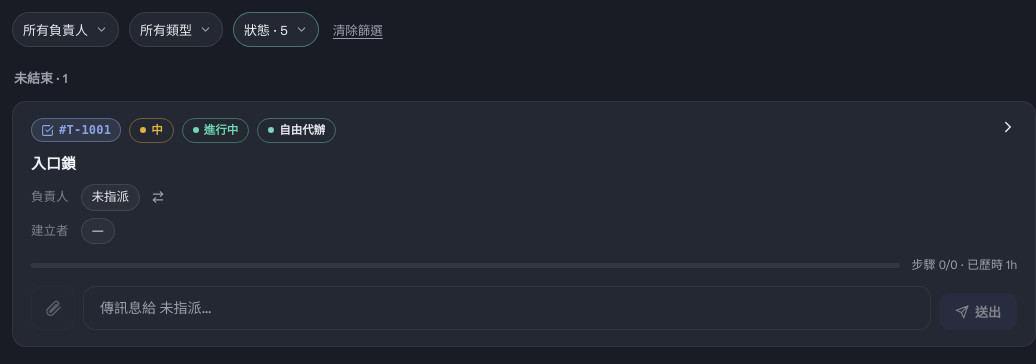
Test: TaskCard 轉派 entry + dialog › puts the 轉派 icon in the 負責人 cell — never the 狀態 dropdown (owner 2026-07-18)
Expected: the element with test id "task-reassign" is shown, [80,184,170,211]
Expected: the text "未指派" is shown, [92,188,129,207]
What coordinates should you click on to do the following:
click the button with test id "task-status"
I would click on:
 (216, 130)
Its box is [182,118,249,143].
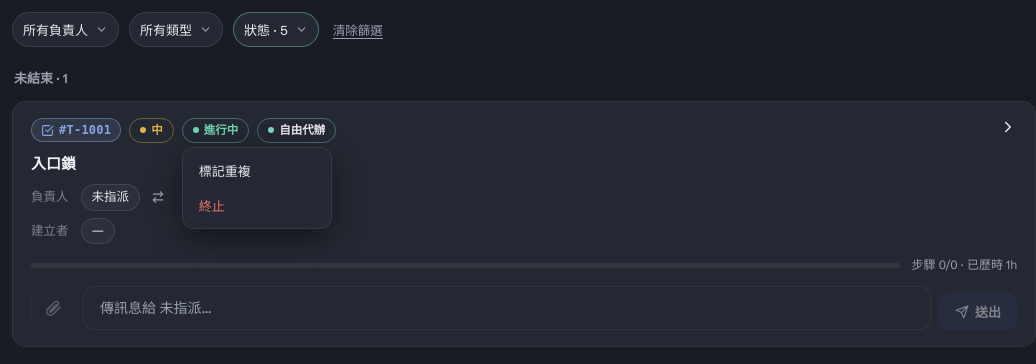
Expected: the menu item with test id "task-mark-duplicate" is shown, [189,154,325,187]
